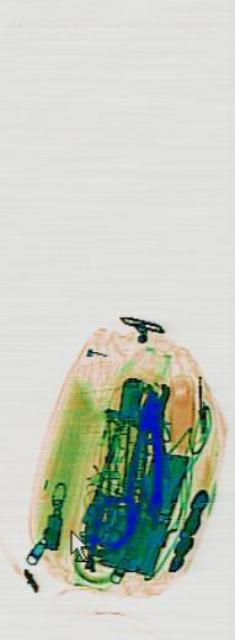Pliers: (121, 380, 167, 524)
